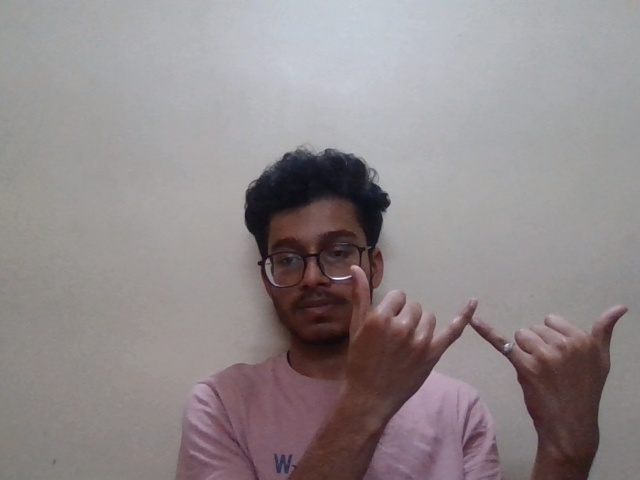today: (335, 264, 639, 397)
